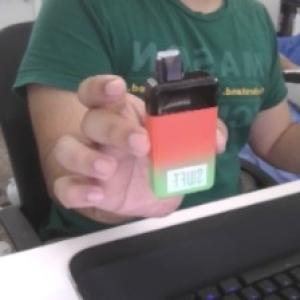Swift-E-Ciggirate: (143, 37, 219, 198)
